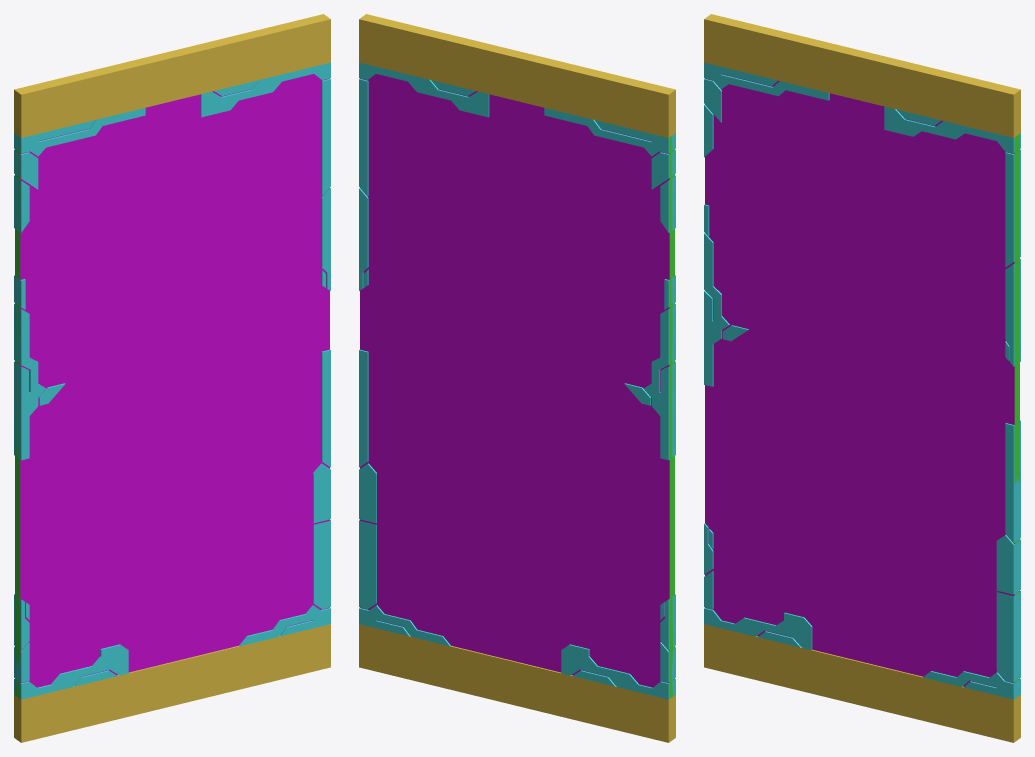
Rendered from Wall_52.fbx.
3 views of the same model, side by side, from view 1: azimuth 30°, elevation 25°; view 2: azimuth 150°, elevation 25°; view 3: azimuth 330°, elevation 25° (orthographic).
Parts seen in each view (by area): view 1: Wall_52; view 2: Wall_52; view 3: Wall_52.
Boxes of the visible parts, x1,y1,x2,y2 form: Wall_52: (14,14,330,742); Wall_52: (359,14,675,742); Wall_52: (704,14,1020,742).
Bounding box in the file's own units: 229 × 457 × 9.14.
